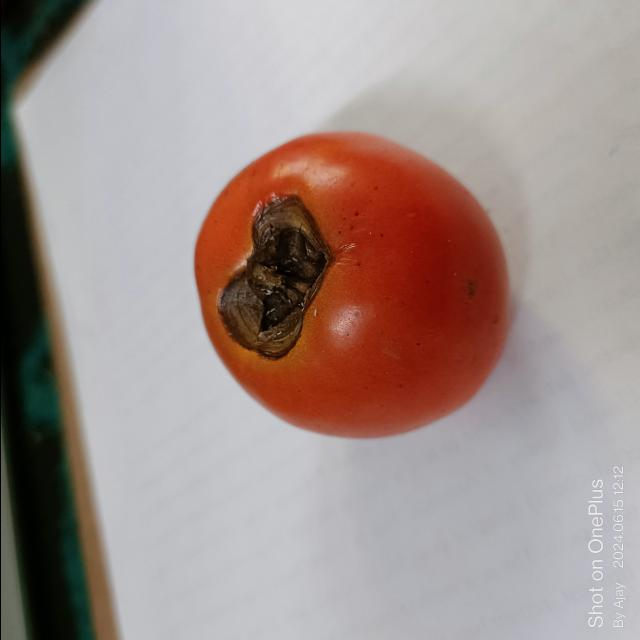Anthrocnose: (215, 194, 336, 364)
